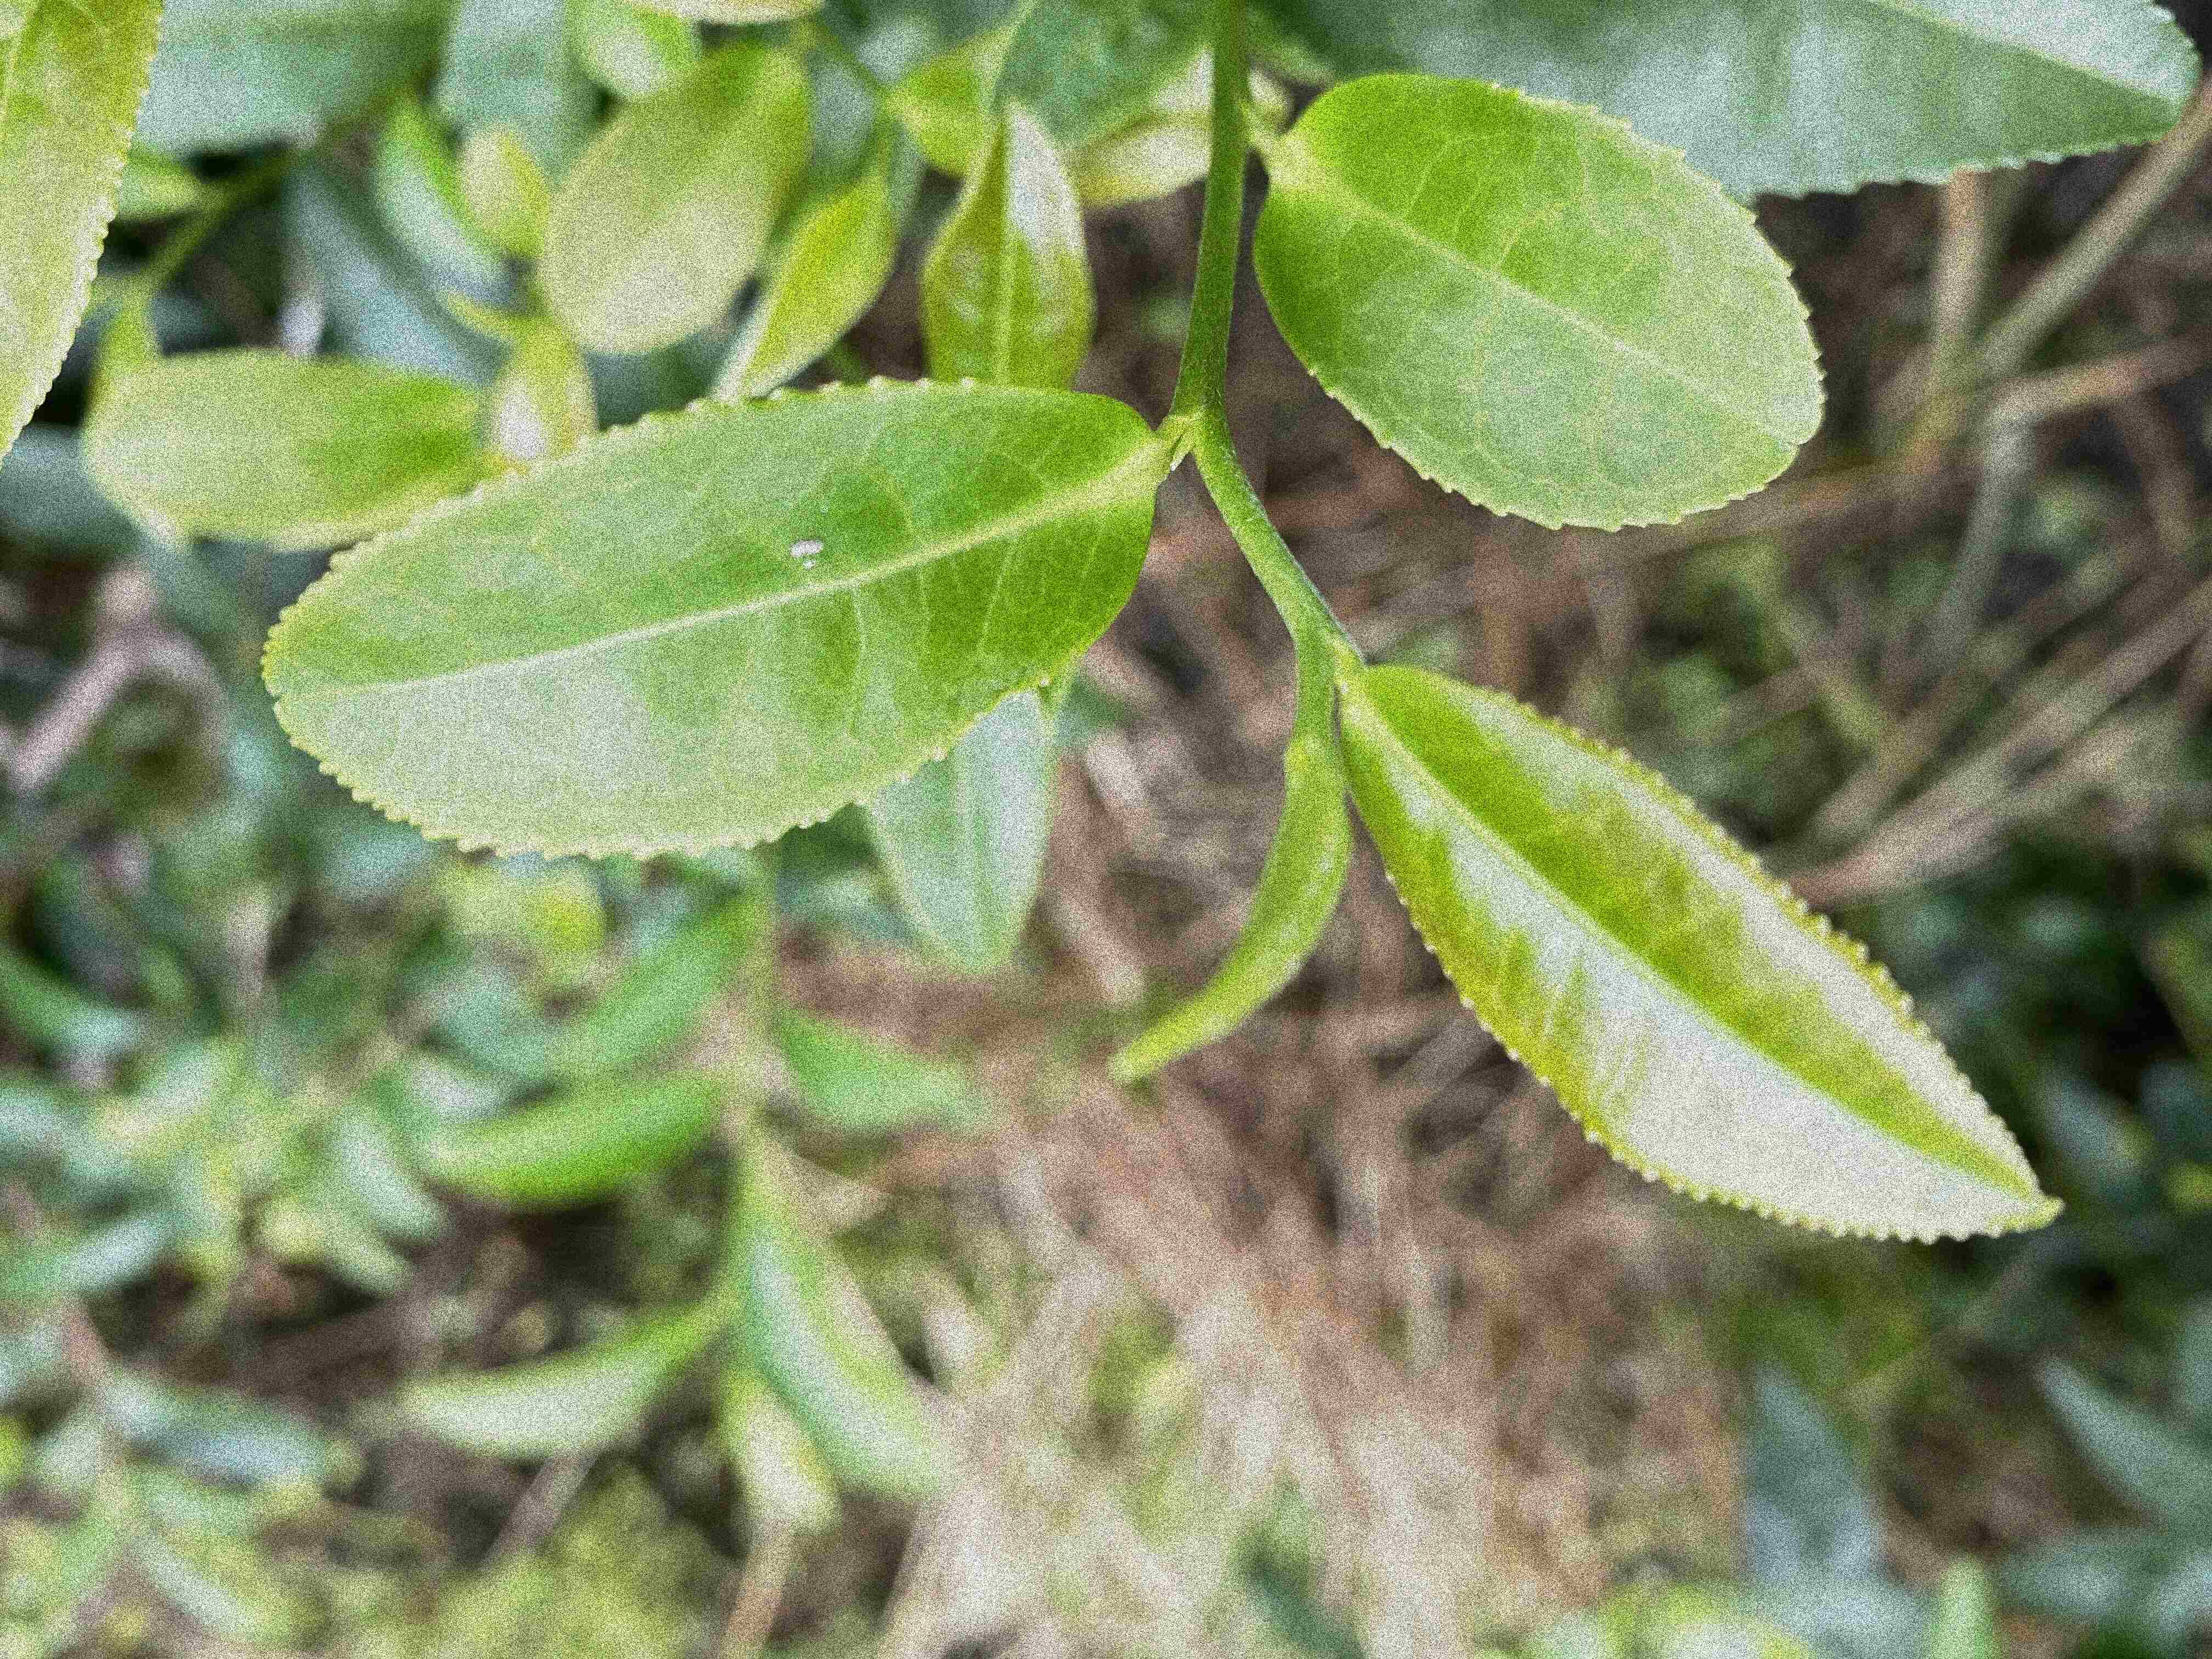healthy: (1339, 659, 2060, 1244), (1251, 73, 1827, 532)
tanju_low: (258, 378, 1160, 863)
